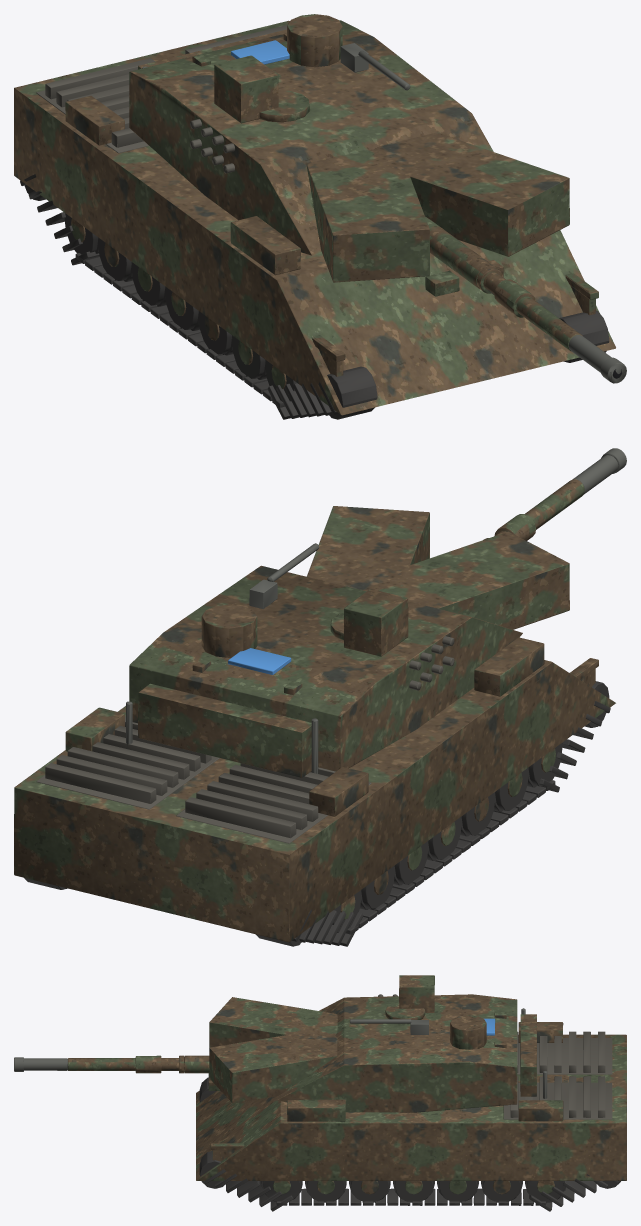
The model's file is mbt_e4_de_leopard2a6_LOD1.glb.
The picture shows the model from 3 angles, top to bottom: view 1: azimuth 30°, elevation 25°; view 2: azimuth 150°, elevation 25°; view 3: azimuth 270°, elevation 25°; orthographic projection. The views are drawn at different scales.
Parts seen in each view (by area): view 1: mbt_e4_de_leopard2a6_LOD1_body, mbt_e4_de_leopard2a6_LOD1_track, mbt_e4_de_leopard2a6_LOD1_deck, mbt_e4_de_leopard2a6_LOD1_gun, mbt_e4_de_leopard2a6_LOD1_team; view 2: mbt_e4_de_leopard2a6_LOD1_body, mbt_e4_de_leopard2a6_LOD1_deck, mbt_e4_de_leopard2a6_LOD1_track, mbt_e4_de_leopard2a6_LOD1_gun, mbt_e4_de_leopard2a6_LOD1_team; view 3: mbt_e4_de_leopard2a6_LOD1_body, mbt_e4_de_leopard2a6_LOD1_track, mbt_e4_de_leopard2a6_LOD1_deck, mbt_e4_de_leopard2a6_LOD1_gun.
Part boxes in pixels (box(x1,y1,x2,y2)): mbt_e4_de_leopard2a6_LOD1_body: box(14, 14, 615, 415); mbt_e4_de_leopard2a6_LOD1_track: box(20, 174, 609, 419); mbt_e4_de_leopard2a6_LOD1_deck: box(36, 25, 287, 173); mbt_e4_de_leopard2a6_LOD1_gun: box(142, 43, 626, 383); mbt_e4_de_leopard2a6_LOD1_team: box(231, 40, 289, 64); mbt_e4_de_leopard2a6_LOD1_body: box(14, 479, 615, 942); mbt_e4_de_leopard2a6_LOD1_deck: box(36, 636, 454, 843); mbt_e4_de_leopard2a6_LOD1_track: box(24, 681, 610, 946); mbt_e4_de_leopard2a6_LOD1_gun: box(126, 448, 626, 773); mbt_e4_de_leopard2a6_LOD1_team: box(228, 648, 291, 674); mbt_e4_de_leopard2a6_LOD1_body: box(68, 975, 626, 1194); mbt_e4_de_leopard2a6_LOD1_track: box(199, 1077, 620, 1211); mbt_e4_de_leopard2a6_LOD1_deck: box(378, 994, 612, 1119); mbt_e4_de_leopard2a6_LOD1_gun: box(14, 1008, 547, 1098).
Size of the model in its own units: 3.75 by 3.28 by 10.97.
6 materials, 1 textured.
